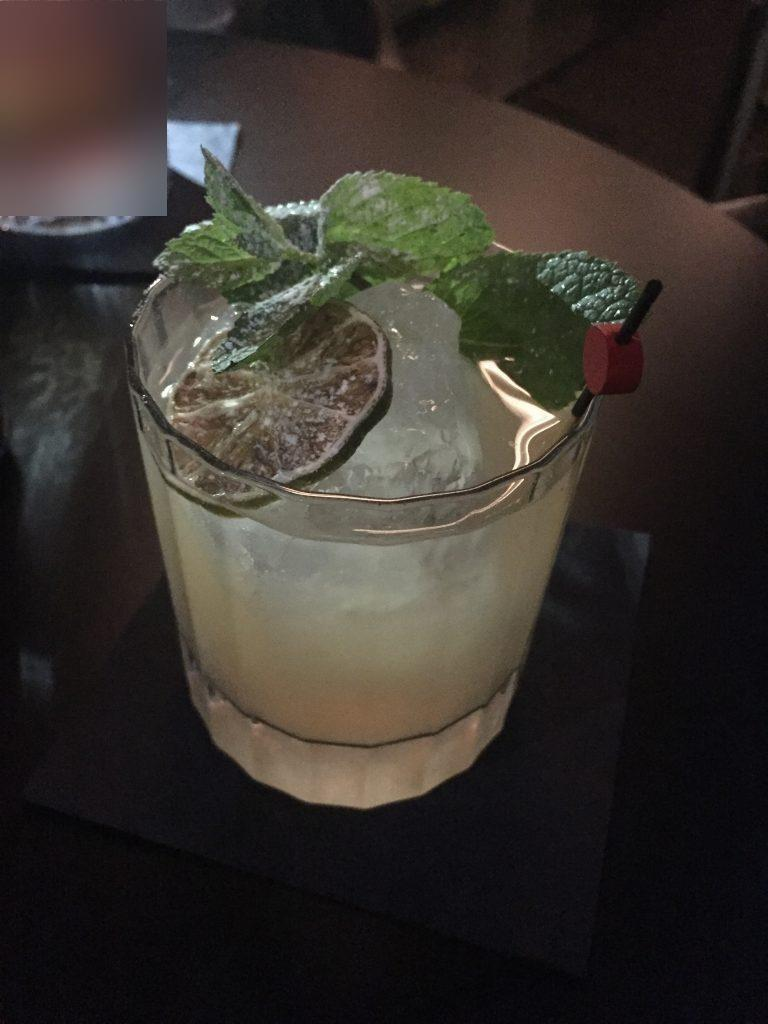glass-normal: (124, 212, 649, 816)
